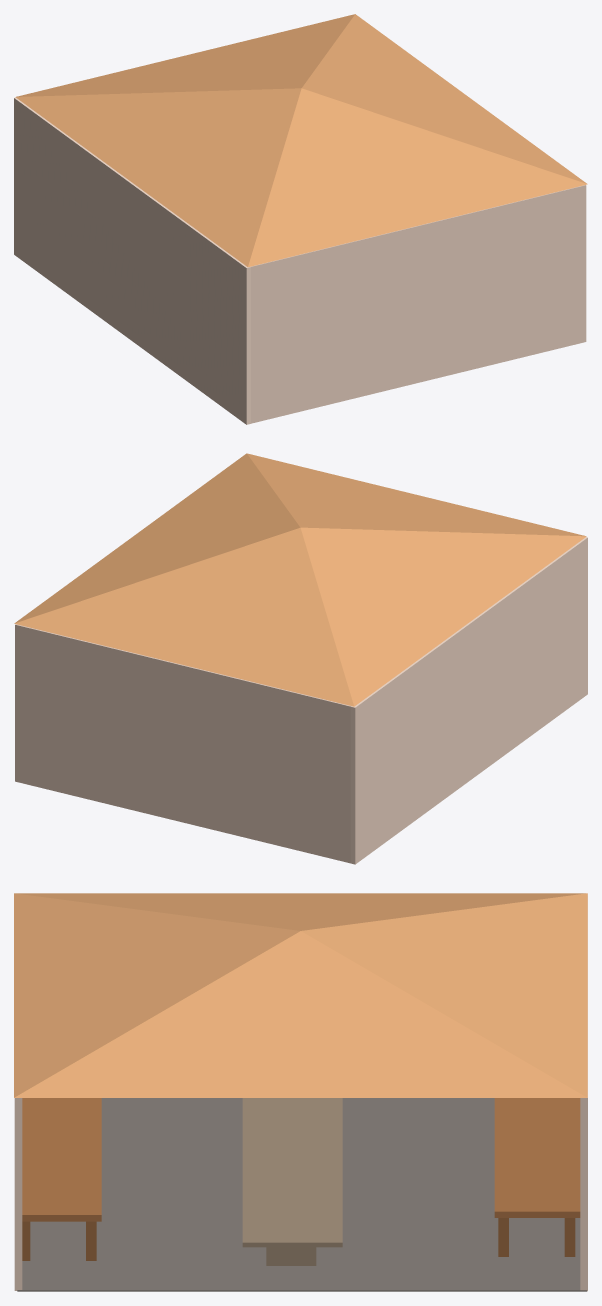
Rendered from paredesok1.glb.
3 views of the same model, one above another, from view 1: azimuth 30°, elevation 25°; view 2: azimuth 150°, elevation 25°; view 3: azimuth 270°, elevation 25° (orthographic). The views are drawn at different scales.
Visible parts, largest first — view 1: Cubo.001, Cube.003, Cube.004; view 2: Cubo.001, Cube.001, Cube.004; view 3: Cubo.001, Cubo, Cubo.002, Cubo.008, Cubo.003, Cube.001, Cube.003.
Part boxes in pixels (left/top/right/bottom): Cubo.001: left=15, top=14, right=587, bottom=266; Cube.003: left=250, top=185, right=586, bottom=423; Cube.004: left=14, top=97, right=250, bottom=424; Cubo.001: left=14, top=453, right=586, bottom=706; Cube.001: left=15, top=624, right=351, bottom=863; Cube.004: left=350, top=537, right=587, bottom=864; Cubo.001: left=14, top=893, right=587, bottom=1097; Cubo: left=17, top=1098, right=586, bottom=1291; Cubo.002: left=242, top=1098, right=342, bottom=1265; Cubo.008: left=494, top=1098, right=580, bottom=1256; Cubo.003: left=22, top=1098, right=101, bottom=1260; Cube.001: left=580, top=896, right=587, bottom=1291; Cube.003: left=14, top=1098, right=22, bottom=1290.
Bounding box in the file's own units: 34.48 × 20.06 × 40.27.
